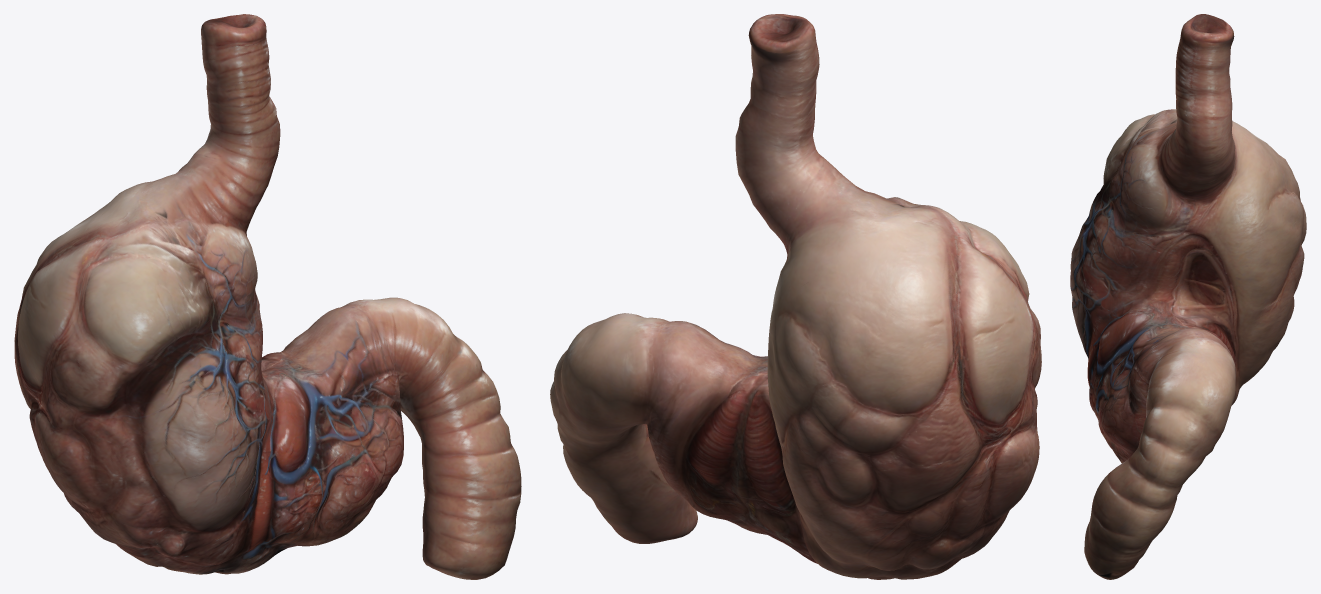
File: Unreal_engineer_quali_0206095618_texture.fbx
3 renders of one model, left to right at view 1: azimuth 30°, elevation 25°; view 2: azimuth 150°, elevation 25°; view 3: azimuth 270°, elevation 25°, orthographic. The views are drawn at different scales.
Parts seen in each view (by area): view 1: Mesh1_Mesh1.114; view 2: Mesh1_Mesh1.114; view 3: Mesh1_Mesh1.114.
Part boxes in pixels (x1,y1,x2,y2): Mesh1_Mesh1.114: (14,14,521,579); Mesh1_Mesh1.114: (550,14,1041,579); Mesh1_Mesh1.114: (1070,14,1306,579).
Bounding box in the file's own units: 166 × 199 × 89.61.
1 material, 1 textured.
